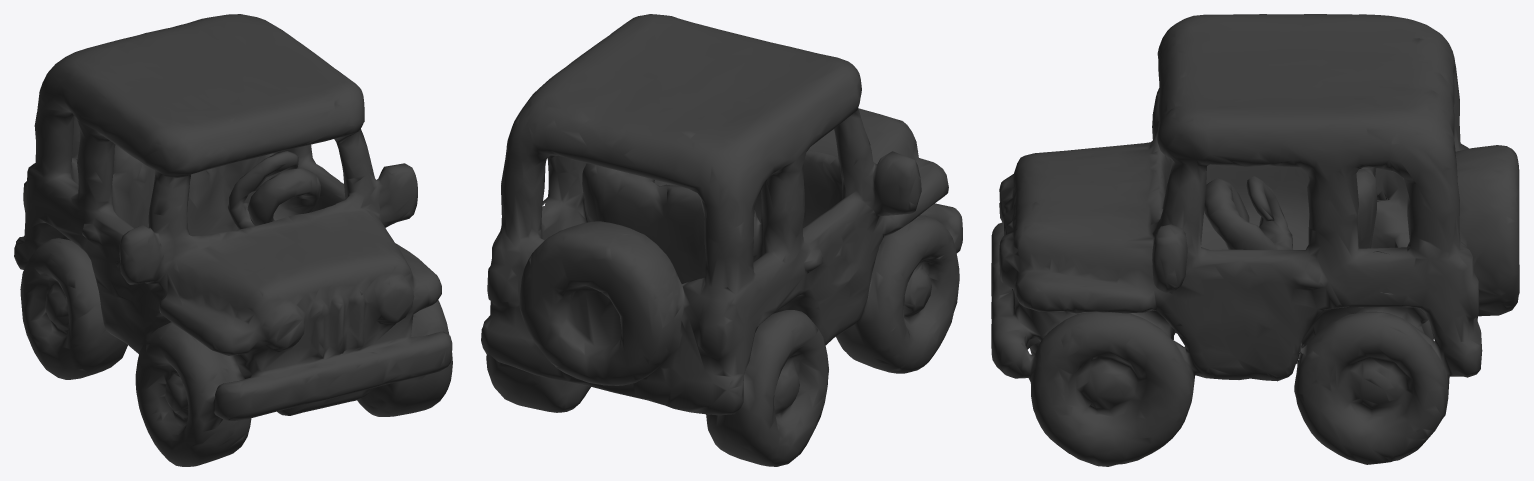
File: car_jeep.glb
The picture shows the model from 3 angles, left to right: view 1: azimuth 30°, elevation 25°; view 2: azimuth 150°, elevation 25°; view 3: azimuth 270°, elevation 25°; orthographic projection. The views are drawn at different scales.
Visible parts, largest first — view 1: geometry_0; view 2: geometry_0; view 3: geometry_0.
Boxes of the visible parts, x1,y1,x2,y2 form: geometry_0: [14, 14, 452, 466]; geometry_0: [481, 14, 962, 466]; geometry_0: [991, 14, 1519, 466].
Bounding box in the file's own units: 0.7201 × 0.7036 × 1.
1 material, 1 textured.
